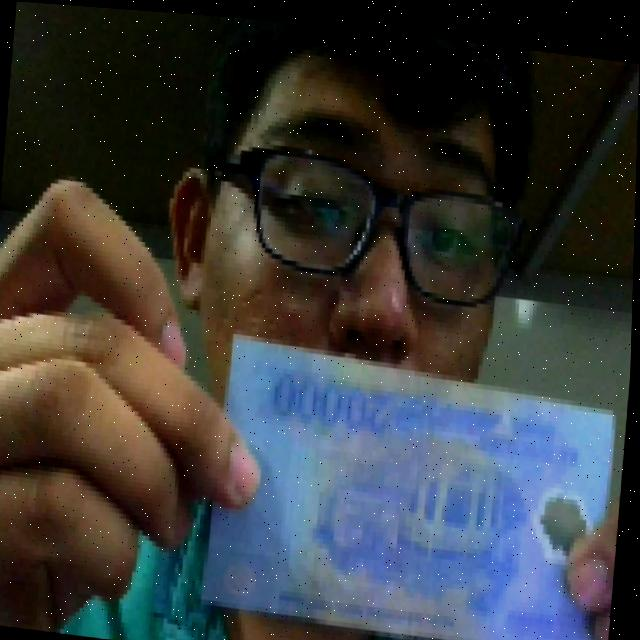20 000 VND: (195, 318, 630, 640)
